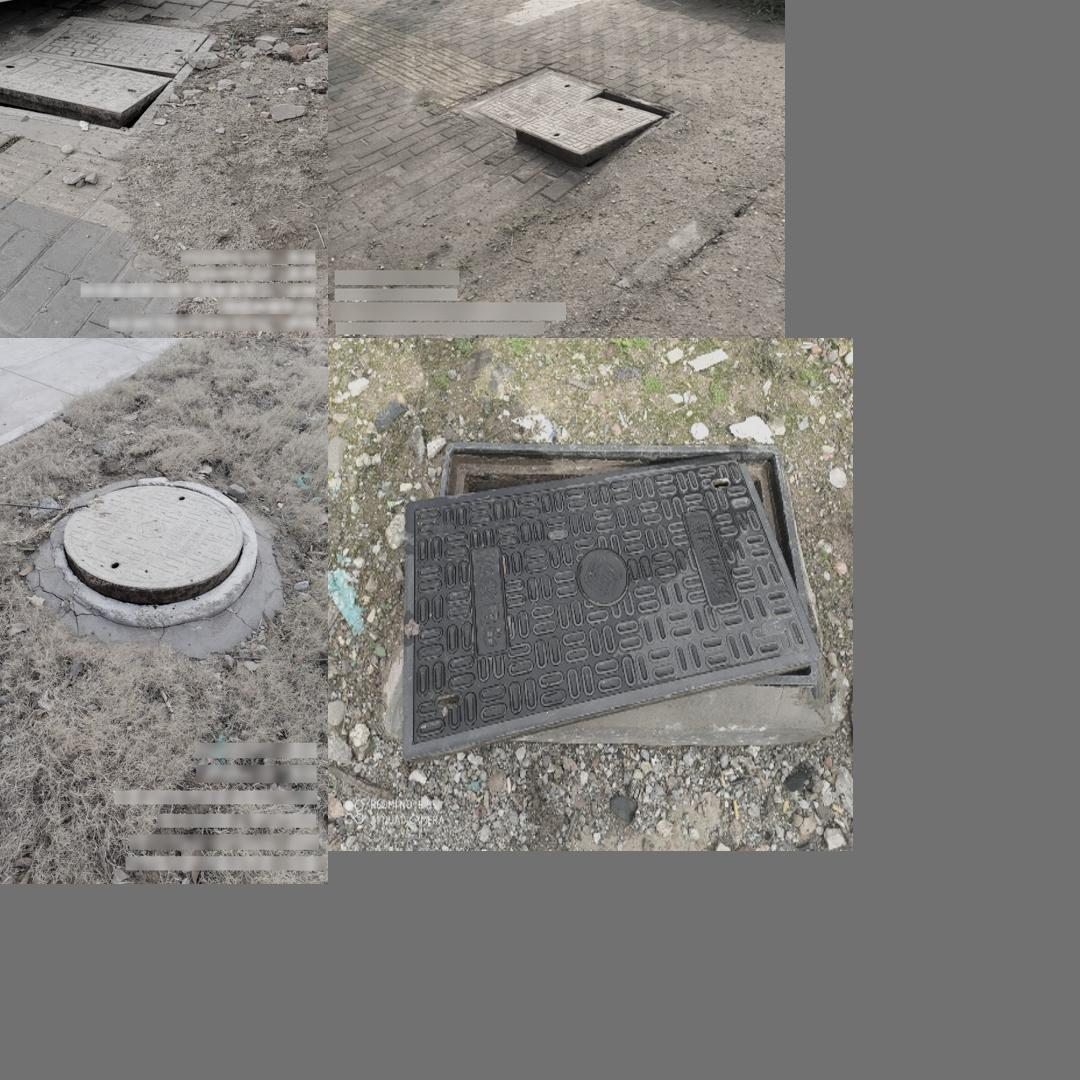uncovered: (402, 441, 818, 754), (52, 478, 257, 631), (0, 27, 201, 151), (463, 65, 676, 159)
